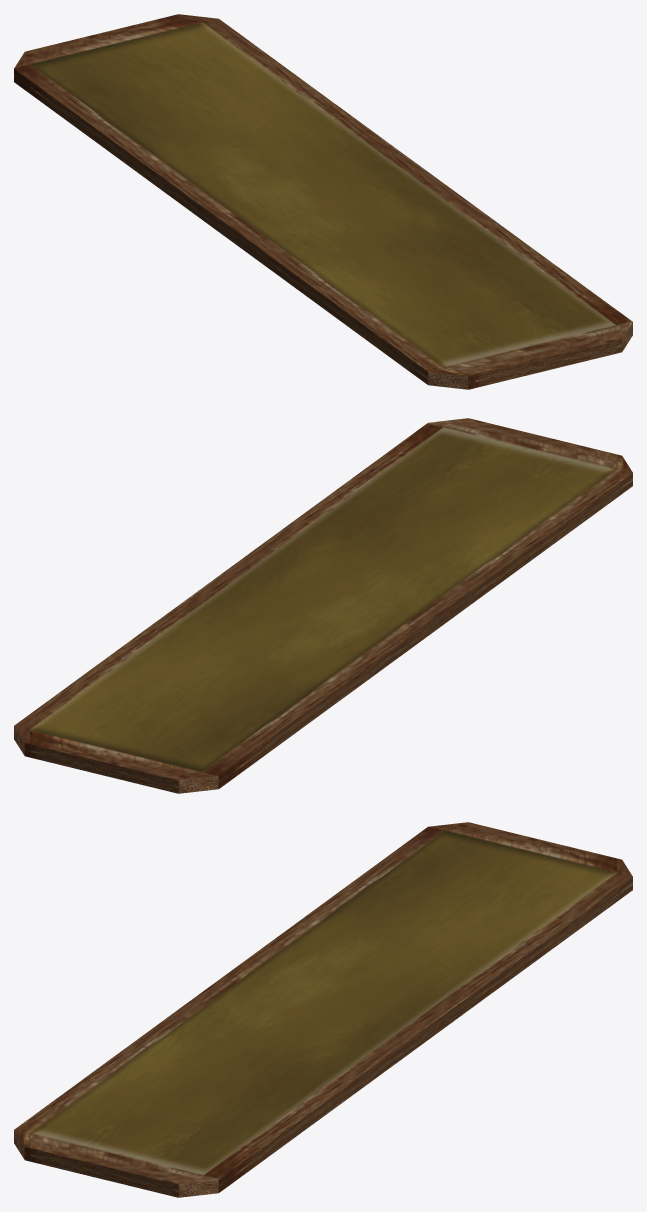
Rendered from seesaw.fbx.
3 renders of one model, top to bottom at view 1: azimuth 30°, elevation 25°; view 2: azimuth 150°, elevation 25°; view 3: azimuth 330°, elevation 25°, orthographic.
Visible parts, largest first — view 1: seesaw; view 2: seesaw; view 3: seesaw.
Boxes of the visible parts, x1,y1,x2,y2 form: seesaw: (14,14,632,389); seesaw: (14,418,632,793); seesaw: (14,822,632,1197).
Bounding box in the file's own units: 4 × 0.25 × 15.
